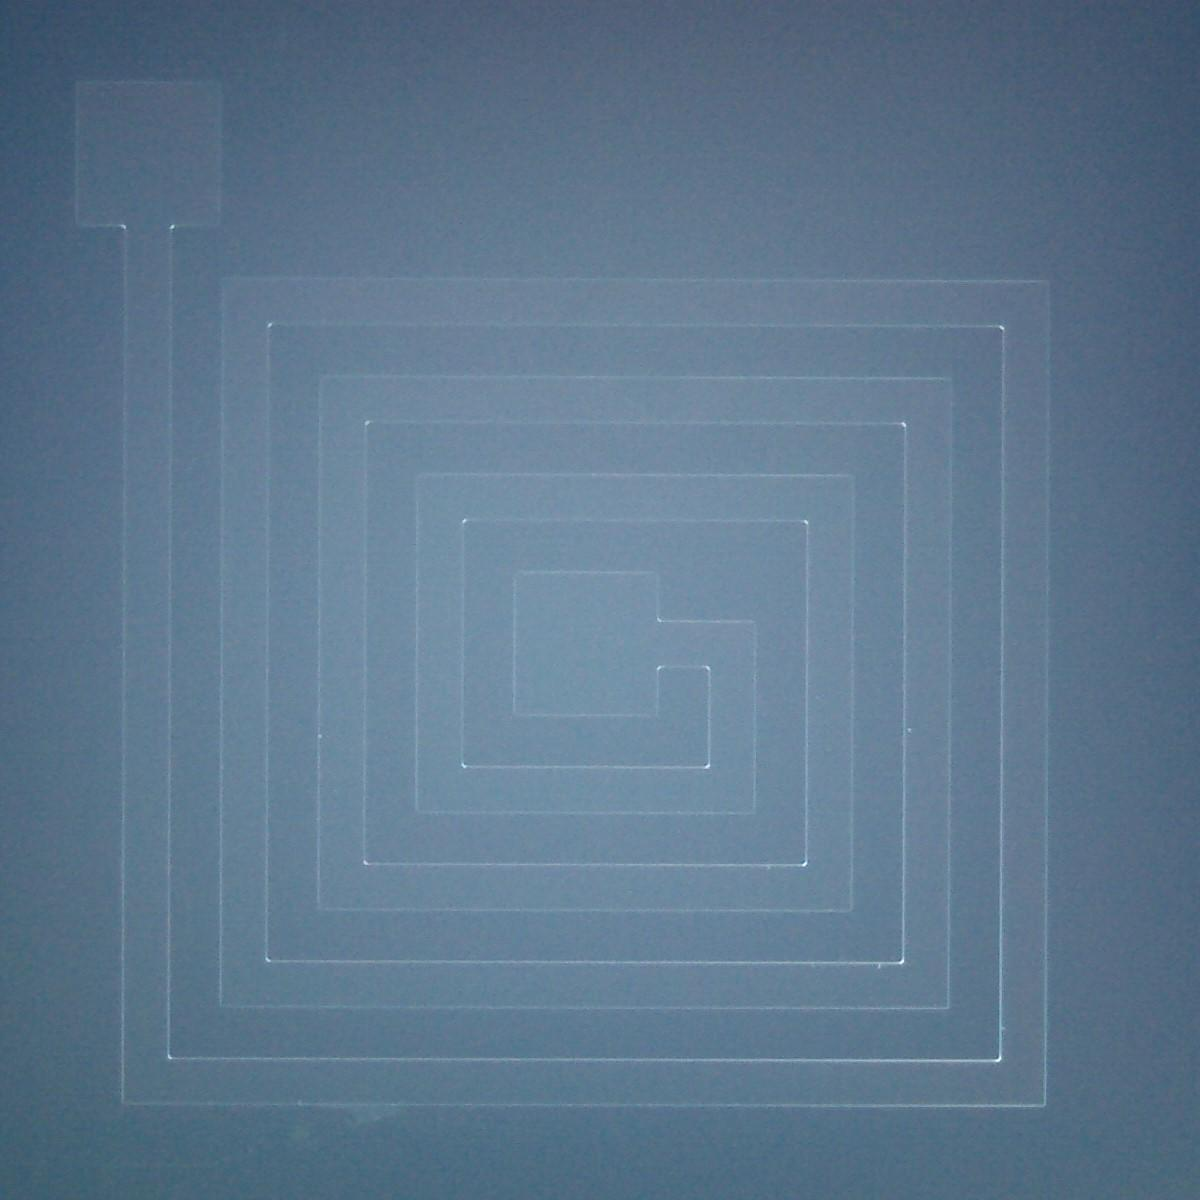s_point: (874, 962, 885, 971), (904, 726, 914, 737), (314, 732, 324, 741), (999, 1024, 1008, 1033), (297, 1098, 305, 1107)
